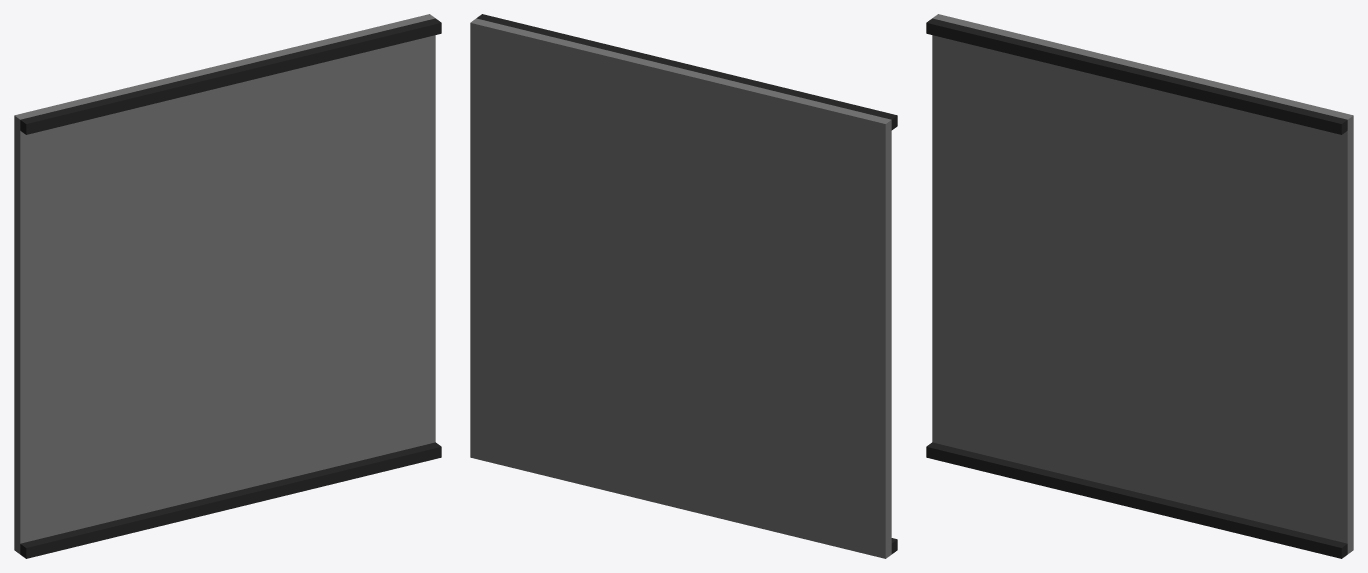
Rendered from wall.obj.
3 views of the same model, side by side, from view 1: azimuth 30°, elevation 25°; view 2: azimuth 150°, elevation 25°; view 3: azimuth 330°, elevation 25° (orthographic).
Size of the model in its own units: 4 by 4 by 0.2.
1 material, 1 textured.
